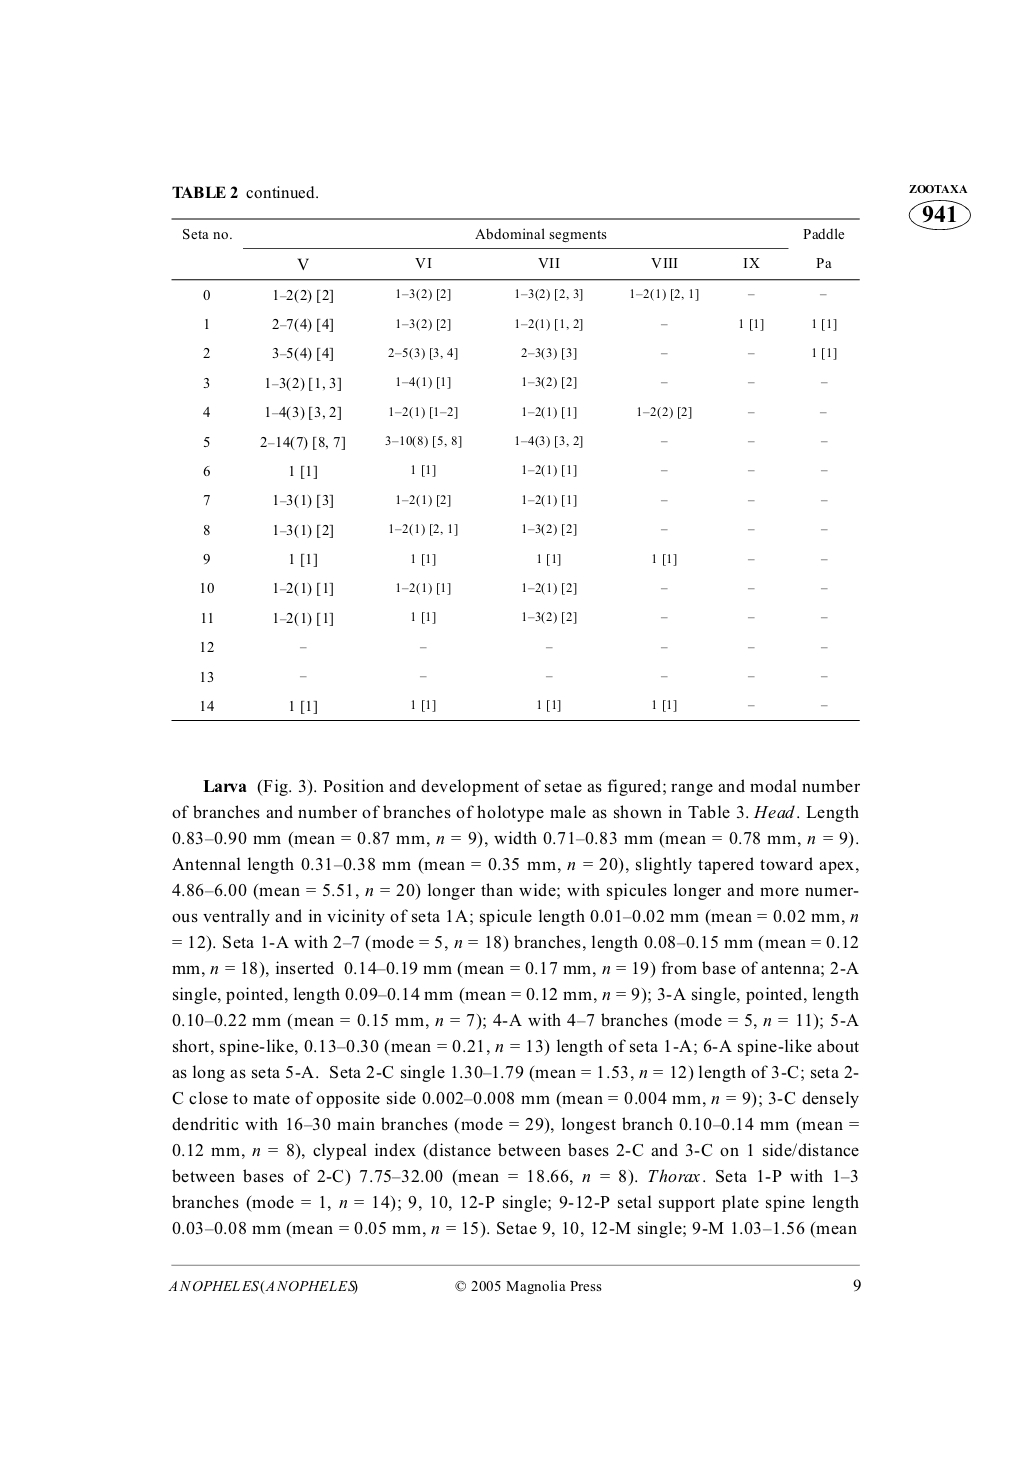Table: (171, 218, 859, 719)
figure: (908, 185, 970, 229)
